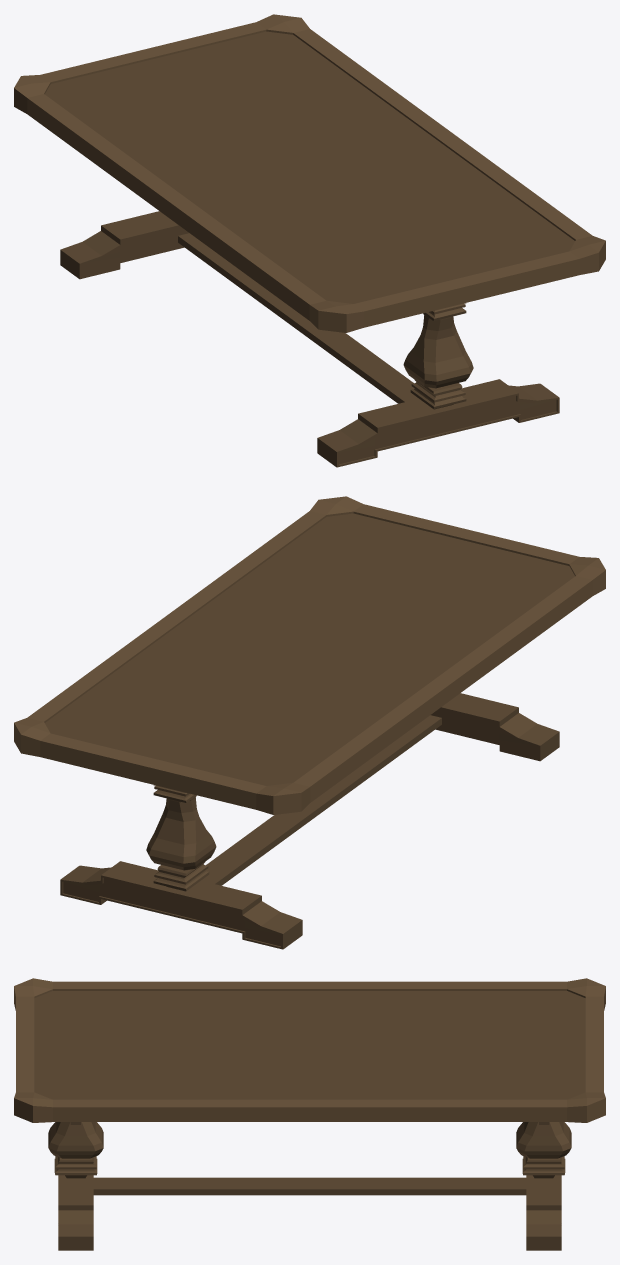
Rendered from Table2.obj.
3 views of the same model, one above another, from view 1: azimuth 30°, elevation 25°; view 2: azimuth 150°, elevation 25°; view 3: azimuth 270°, elevation 25° (orthographic). The views are drawn at different scales.
Visible parts, largest first — view 1: Table2_Cube.007; view 2: Table2_Cube.007; view 3: Table2_Cube.007.
Boxes of the visible parts, x1,y1,x2,y2 form: Table2_Cube.007: [14, 14, 605, 467]; Table2_Cube.007: [14, 496, 605, 949]; Table2_Cube.007: [14, 978, 605, 1250].
Bounding box in the file's own units: 1.42 × 0.8244 × 2.78.
